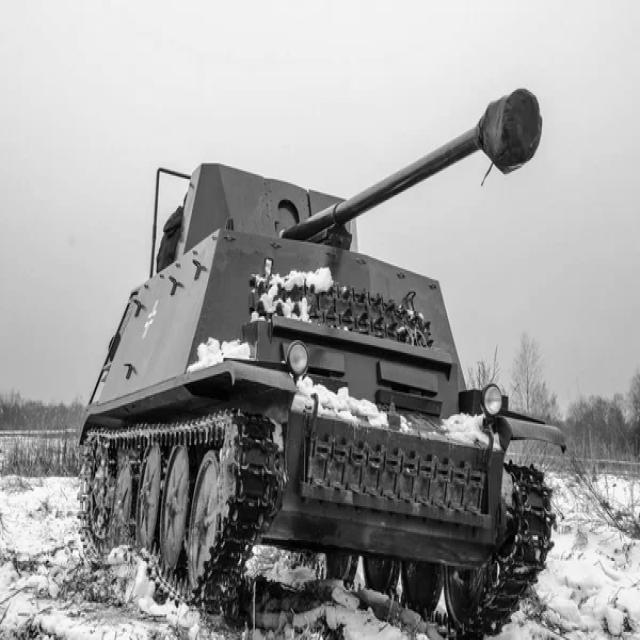Tank: (78, 82, 562, 607)
